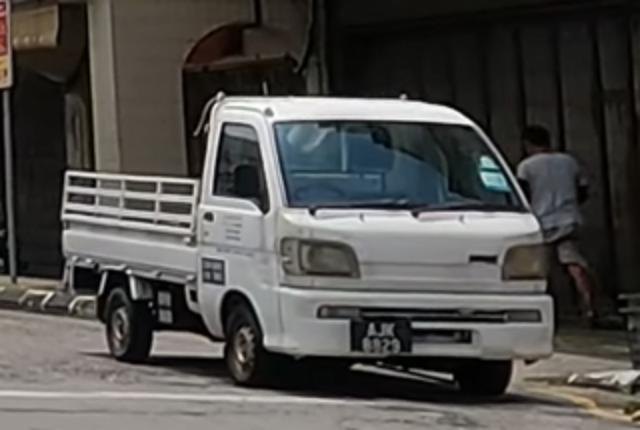License_Plate: (351, 317, 411, 357)
car: (59, 91, 557, 397)
